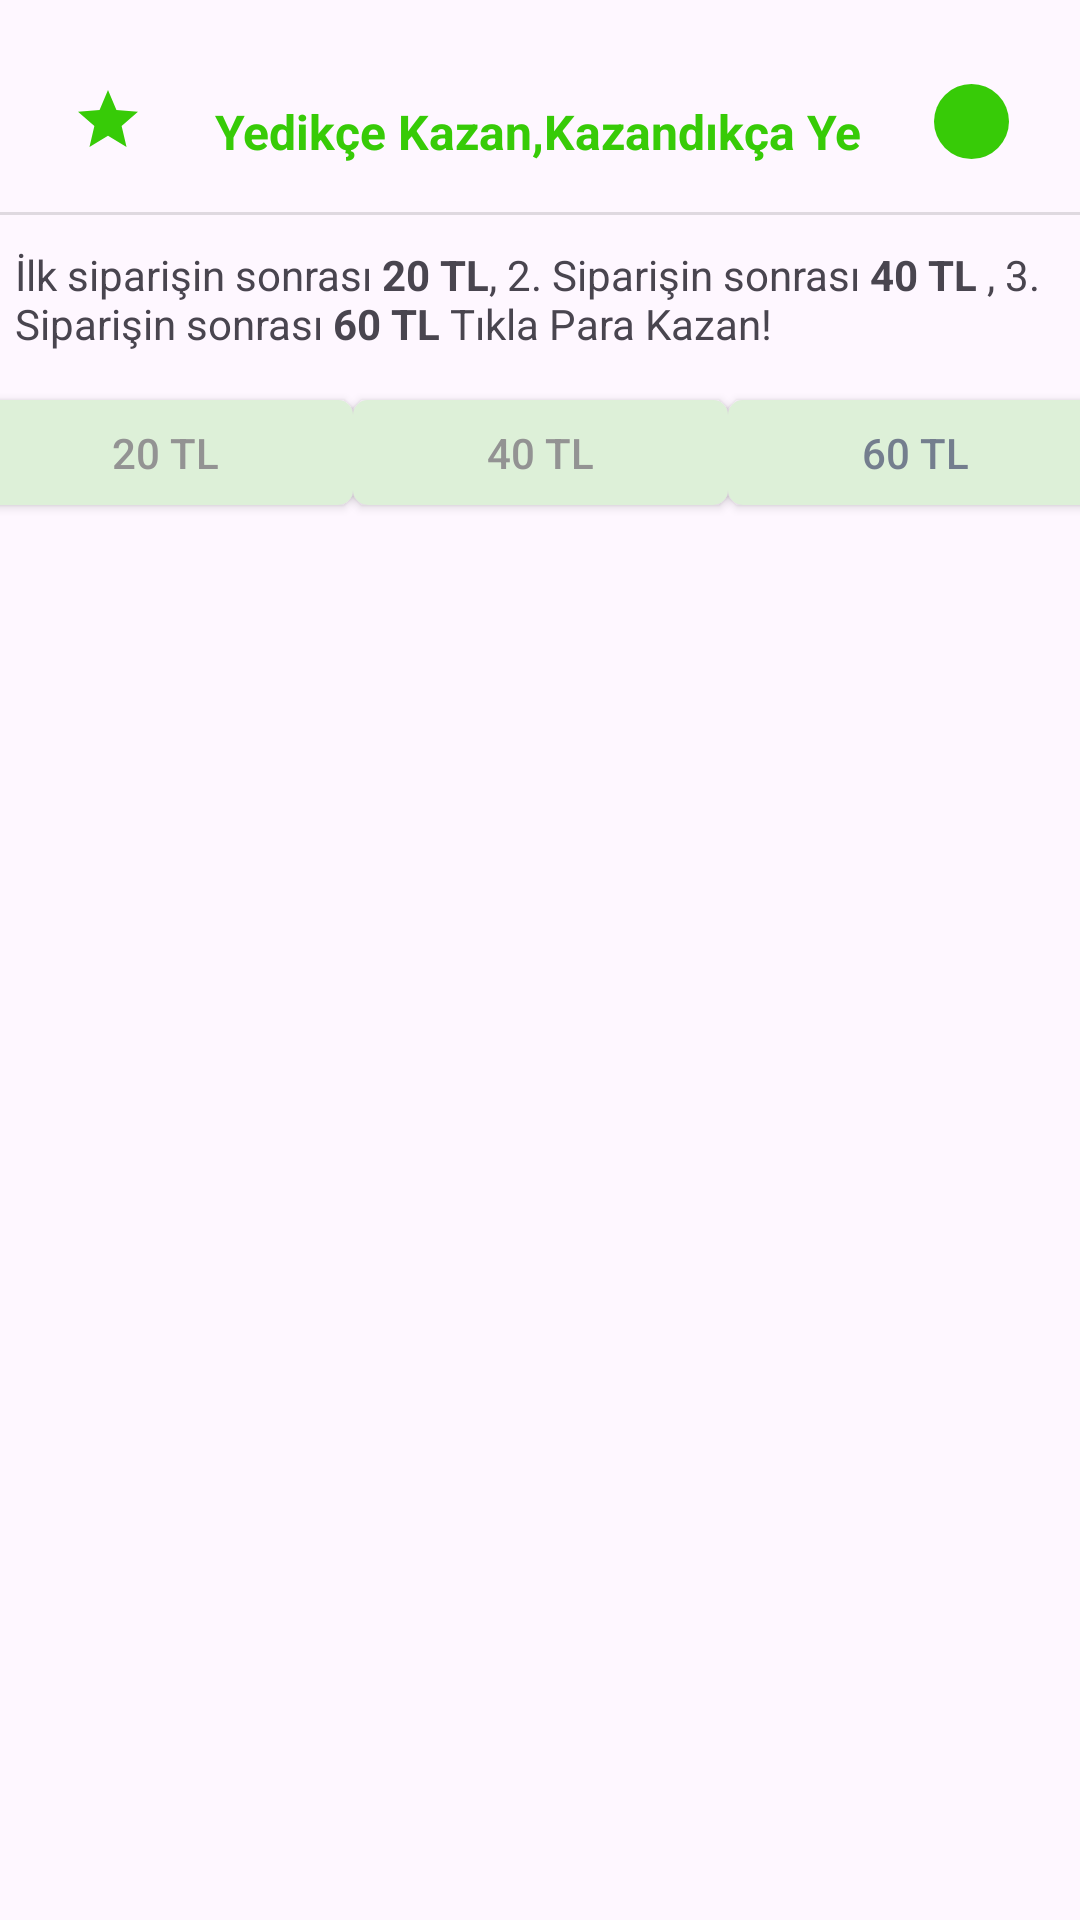

Screen size 1080×1920. Icon name, then its box in pixels as box(x1, y1, x2, y2):
star: box(78, 90, 138, 147)
